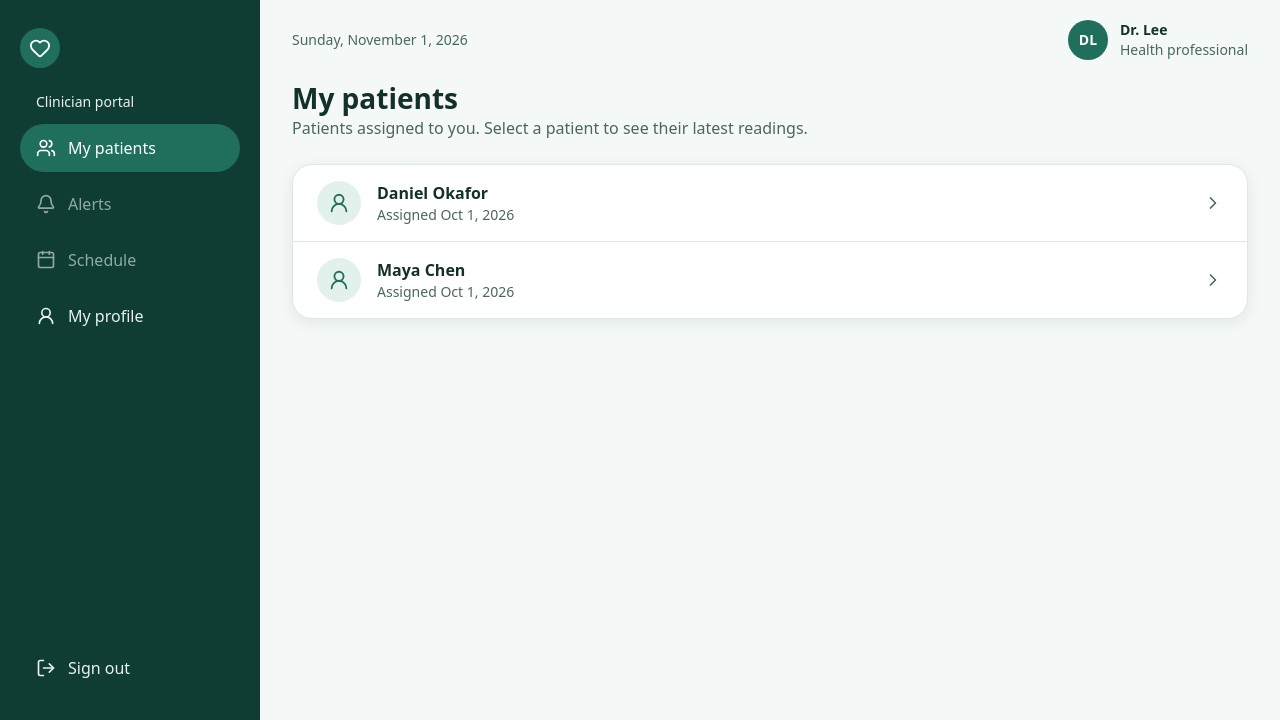
Test case: Professional roster (MON-1) › opens the selected patient's dashboard with their readings
The width and height of the screenshot is (1280, 720).
Click the link "Maya Chen Assigned Oct 1, 2026" at (339, 280), box [317,258,1223,302]
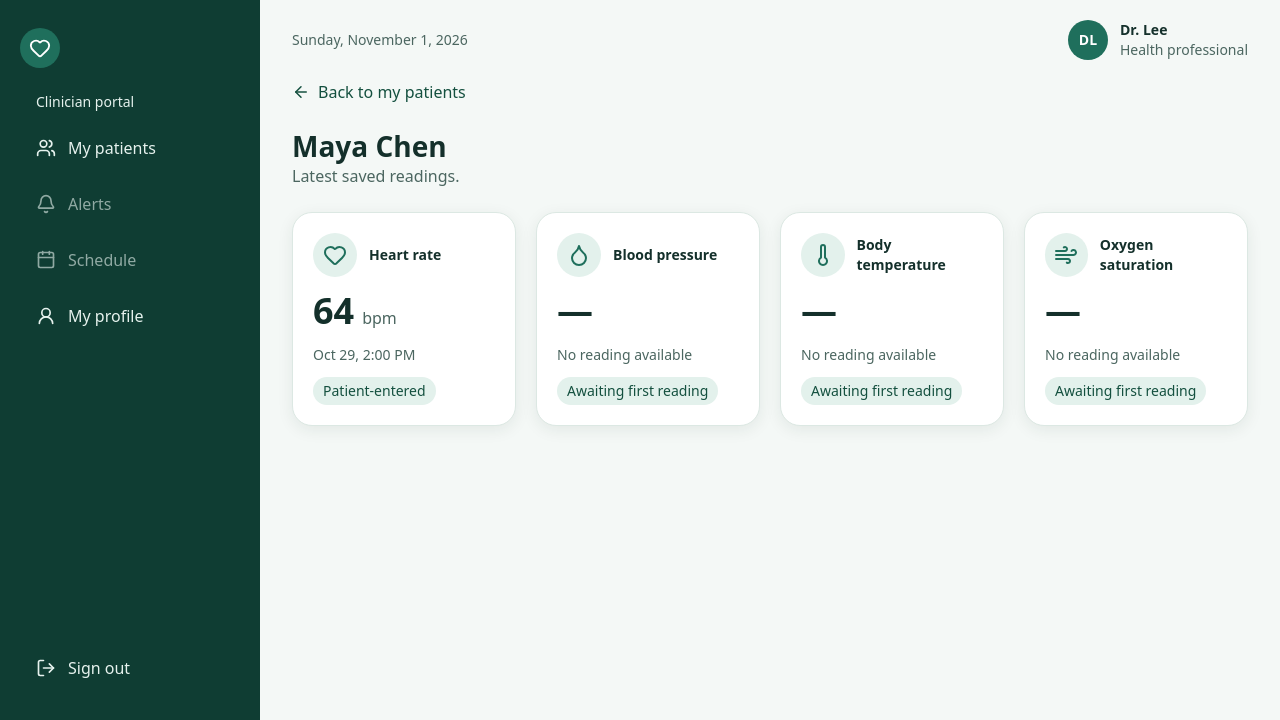
Expected: the heading "Maya Chen" is shown, [292,127,447,165]
Expected: the text "64" is shown, [313,286,354,335]
